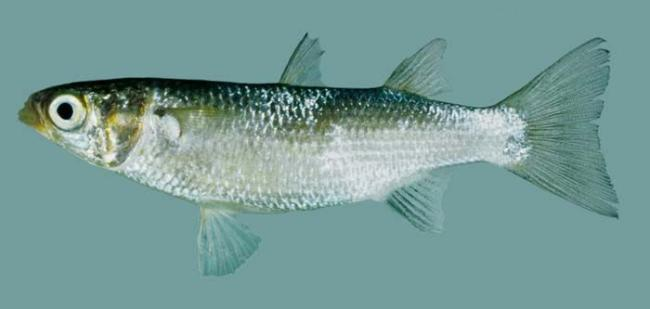fish: (18, 34, 619, 277)
